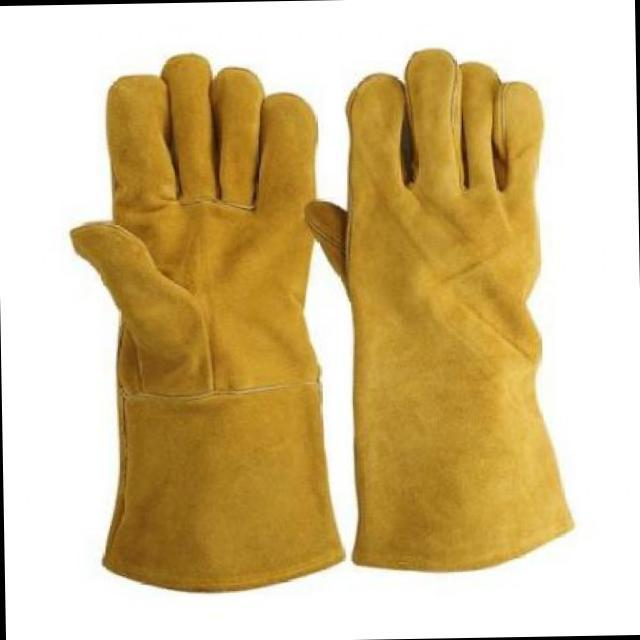glove: (73, 46, 346, 591), (307, 42, 572, 572)
